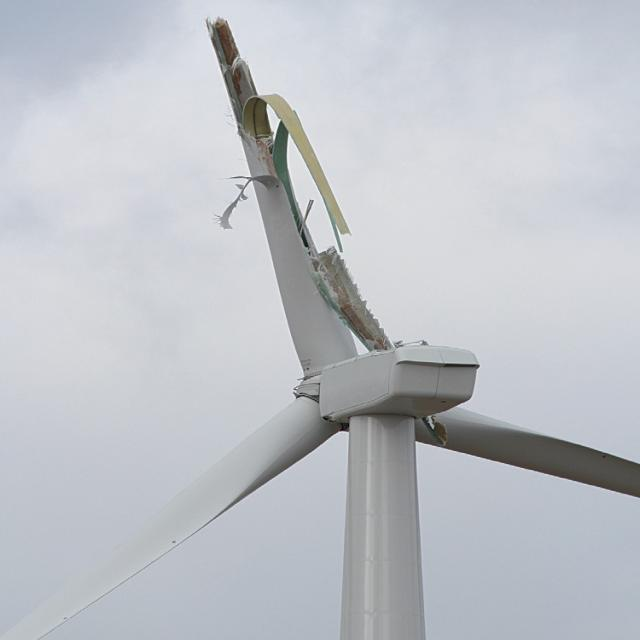damaged-blade: (208, 19, 392, 376), (207, 19, 357, 376)
